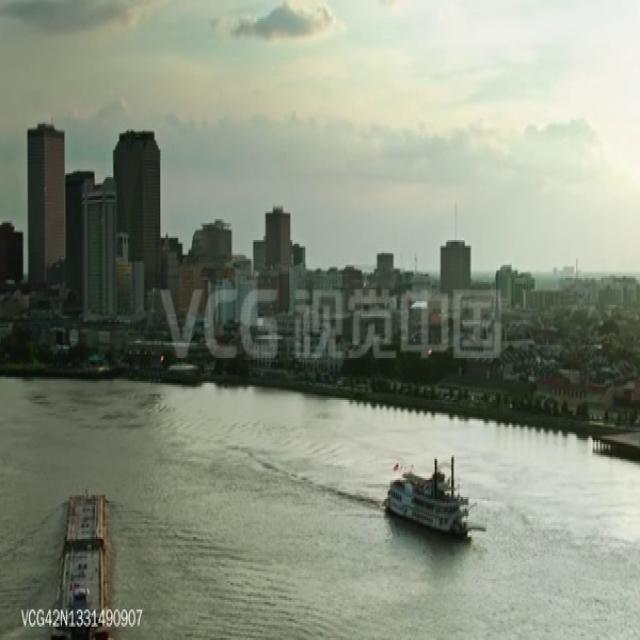cargoship: (50, 482, 117, 640)
passenger ship: (384, 455, 480, 537)
